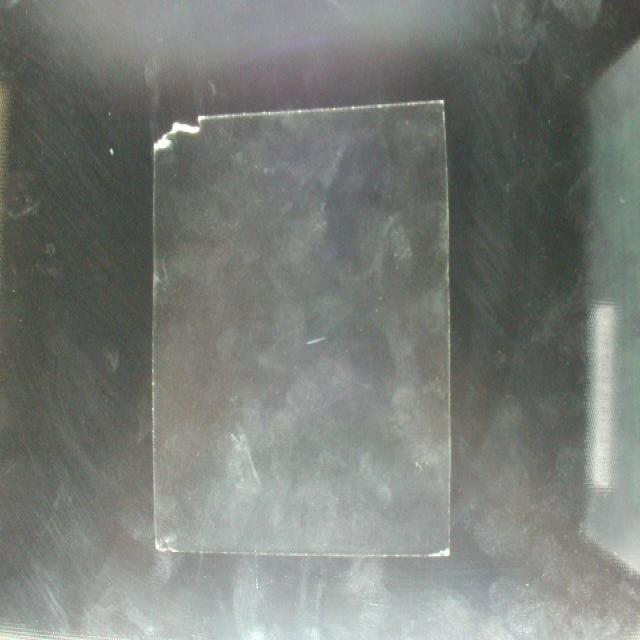edge_chip: (155, 102, 209, 178), (155, 522, 191, 562), (425, 537, 457, 565)
scratch: (302, 322, 332, 365)
